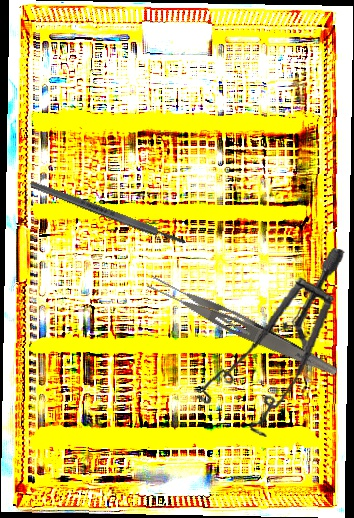Dressing Forceps: (144, 271, 343, 380)
Scalpel Handle: (27, 178, 189, 248)
Speculum: (193, 235, 345, 444)
